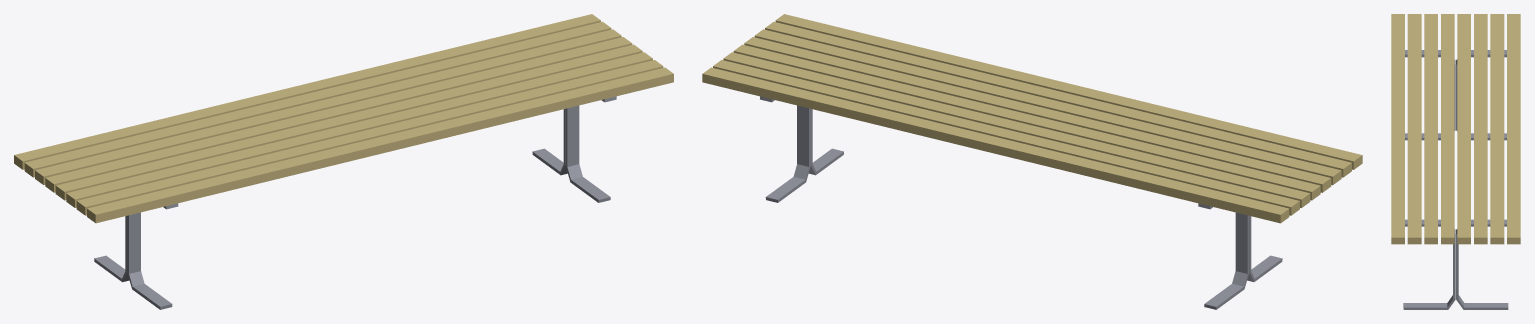
The model's file is flatbench.fbx.
The picture shows the model from 3 angles, left to right: view 1: azimuth 30°, elevation 25°; view 2: azimuth 150°, elevation 25°; view 3: azimuth 270°, elevation 25°; orthographic projection. The views are drawn at different scales.
Visible parts, largest first — view 1: SketchUp.005, SketchUp, SketchUp.006, SketchUp.001, SketchUp.007, SketchUp.002, SketchUp.003, SketchUp.004, instance_2, instance_0, instance_3, instance_1; view 2: SketchUp.004, SketchUp, SketchUp.001, SketchUp.005, SketchUp.007, SketchUp.003, SketchUp.002, SketchUp.006, instance_1, instance_3, instance_0, instance_2; view 3: SketchUp.006, SketchUp.003, SketchUp.007, SketchUp.005, SketchUp.004, SketchUp.002, SketchUp.001, SketchUp, instance_3, instance_2, instance_1, instance_0.
Boxes of the visible parts, x1,y1,x2,y2 form: SketchUp.005: (87,67,673,223); SketchUp: (55,44,642,200); SketchUp.006: (76,60,663,215); SketchUp.001: (45,37,632,192); SketchUp.007: (66,52,652,207); SketchUp.002: (35,29,621,184); SketchUp.003: (24,21,611,177); SketchUp.004: (14,14,600,169); instance_2: (565,96,616,202); instance_0: (127,203,178,309); instance_3: (532,109,567,175); instance_1: (94,216,129,282); SketchUp.004: (702,67,1289,223); SketchUp: (744,37,1331,192); SketchUp.001: (733,44,1320,200); SketchUp.005: (775,14,1362,169); SketchUp.007: (754,29,1341,185); SketchUp.003: (713,60,1299,215); SketchUp.002: (723,52,1310,207); SketchUp.006: (765,21,1351,177); instance_1: (1198,203,1249,309); instance_3: (760,96,810,202); instance_0: (1247,216,1282,281); instance_2: (808,109,843,175); SketchUp.006: (1407,14,1421,244); SketchUp.003: (1490,14,1504,244); SketchUp.007: (1424,14,1437,244); SketchUp.005: (1391,14,1404,244); SketchUp.004: (1507,14,1520,244); SketchUp.002: (1474,14,1487,244); SketchUp.001: (1457,14,1470,244); SketchUp: (1441,14,1454,244); instance_3: (1456,219,1508,309); instance_2: (1403,219,1455,309); instance_1: (1456,50,1506,140); instance_0: (1405,50,1455,140).
Bounding box in the file's own units: 237 × 46.38 × 57.97.
